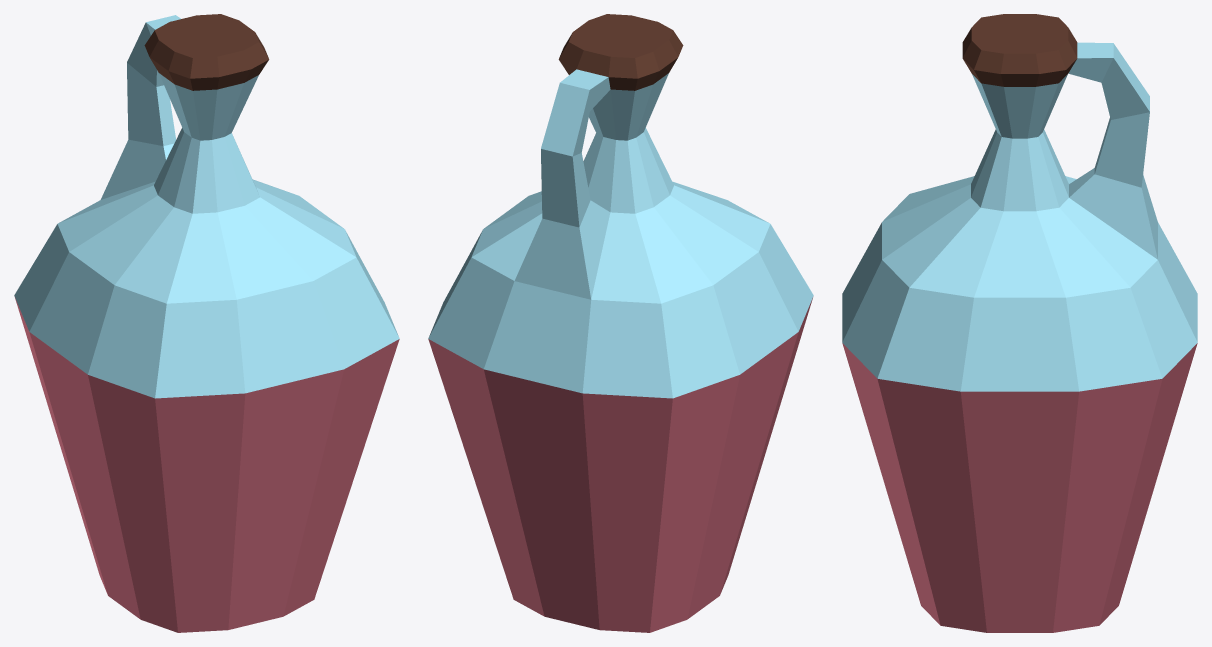
File: potion.fbx
3 views of the same model, side by side, from view 1: azimuth 30°, elevation 25°; view 2: azimuth 150°, elevation 25°; view 3: azimuth 270°, elevation 25° (orthographic).
Parts seen in each view (by area): view 1: potion; view 2: potion; view 3: potion.
Part boxes in pixels (x1,y1,x2,y2): potion: [14, 14, 399, 632]; potion: [428, 14, 813, 632]; potion: [842, 14, 1197, 632].
Bounding box in the file's own units: 420 × 747 × 431.
